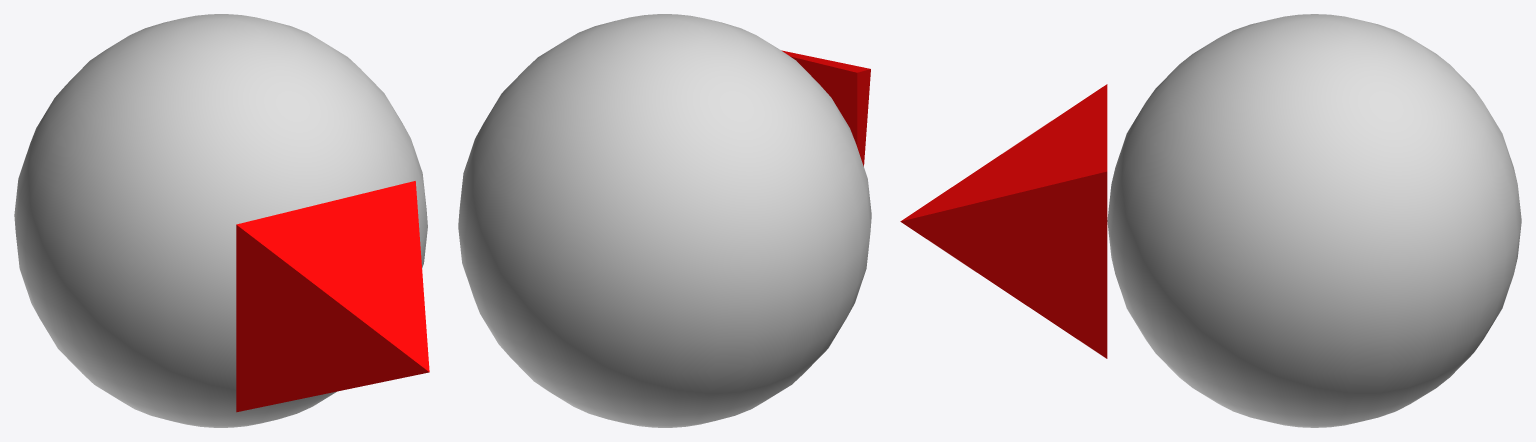
File: character.DAE
3 renders of one model, left to right at view 1: azimuth 30°, elevation 25°; view 2: azimuth 150°, elevation 25°; view 3: azimuth 270°, elevation 25°, orthographic.
Visible parts, largest first — view 1: Sphere001, Pyramid001; view 2: Sphere001, Pyramid001; view 3: Sphere001, Pyramid001.
Part boxes in pixels (bbox=[...]): Sphere001: bbox=[14, 14, 427, 427]; Pyramid001: bbox=[236, 181, 429, 412]; Sphere001: bbox=[458, 14, 871, 427]; Pyramid001: bbox=[781, 50, 870, 166]; Sphere001: bbox=[1107, 14, 1521, 427]; Pyramid001: bbox=[900, 84, 1107, 358].
Size of the model in its own units: 30 by 30 by 45.
